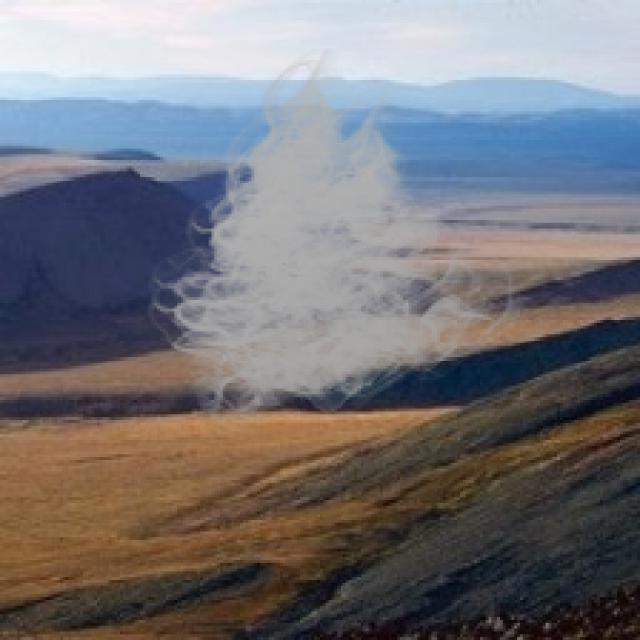smoke: (137, 49, 529, 440)
